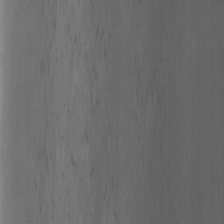silk_spot: (41, 15, 118, 207)
